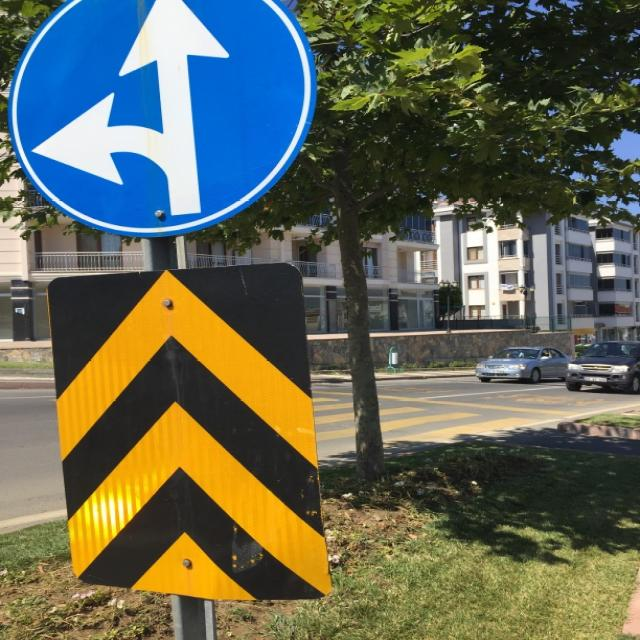ilerisol: (9, 1, 318, 236)
